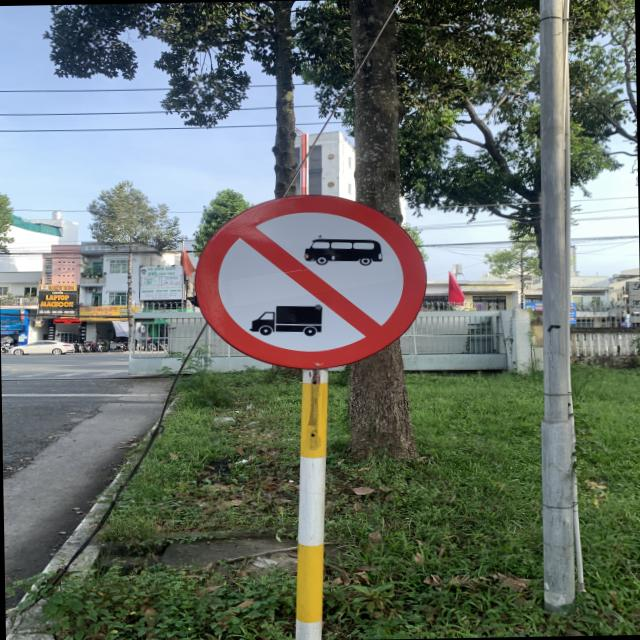Cam_XeTai_XeKhach: (195, 190, 423, 368)
